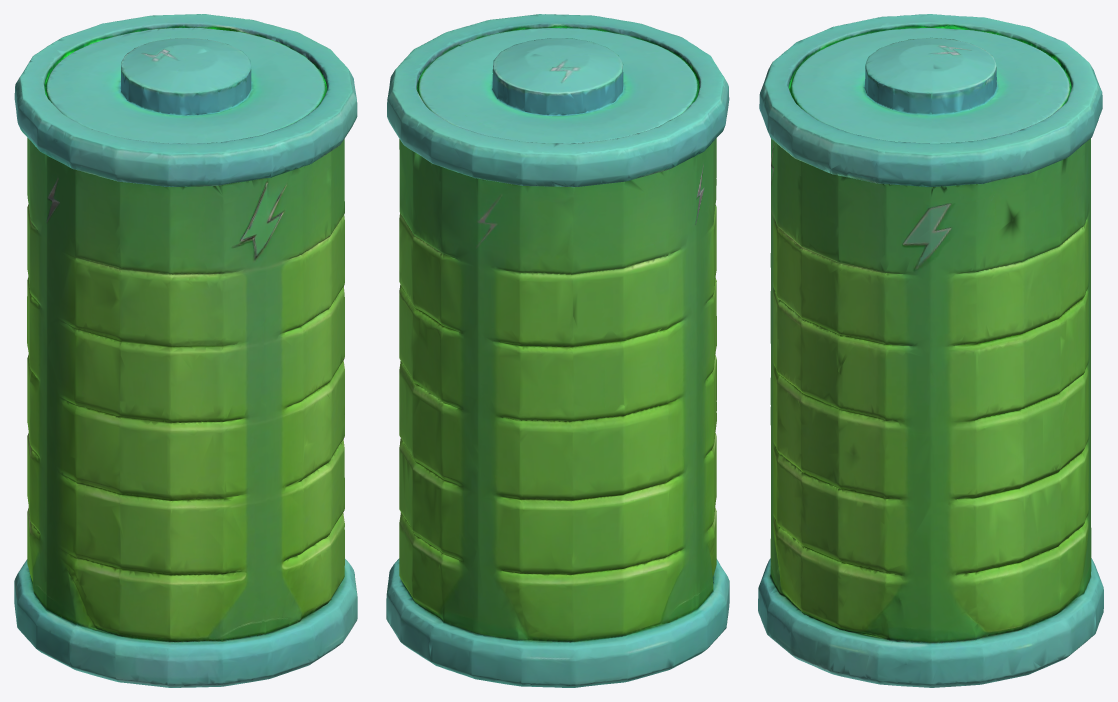
Rendered from energy-cell.glb.
The picture shows the model from 3 angles, left to right: view 1: azimuth 30°, elevation 25°; view 2: azimuth 150°, elevation 25°; view 3: azimuth 270°, elevation 25°; orthographic projection.
Bounding box in the file's own units: 1.1 × 1.99 × 1.1.
Materials: 1 (1 with a texture image).
